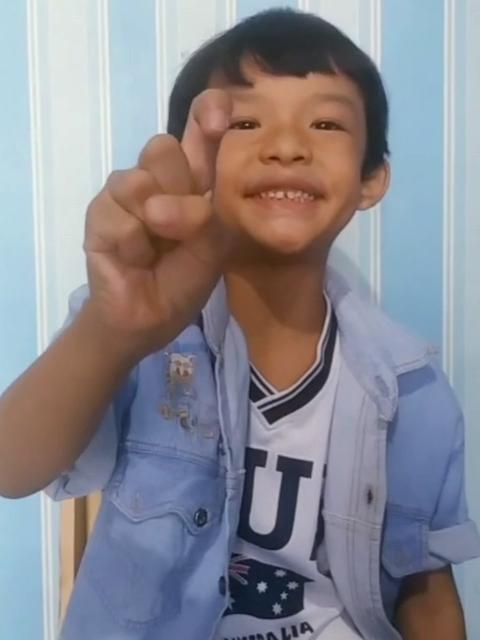X: (74, 84, 248, 346)
